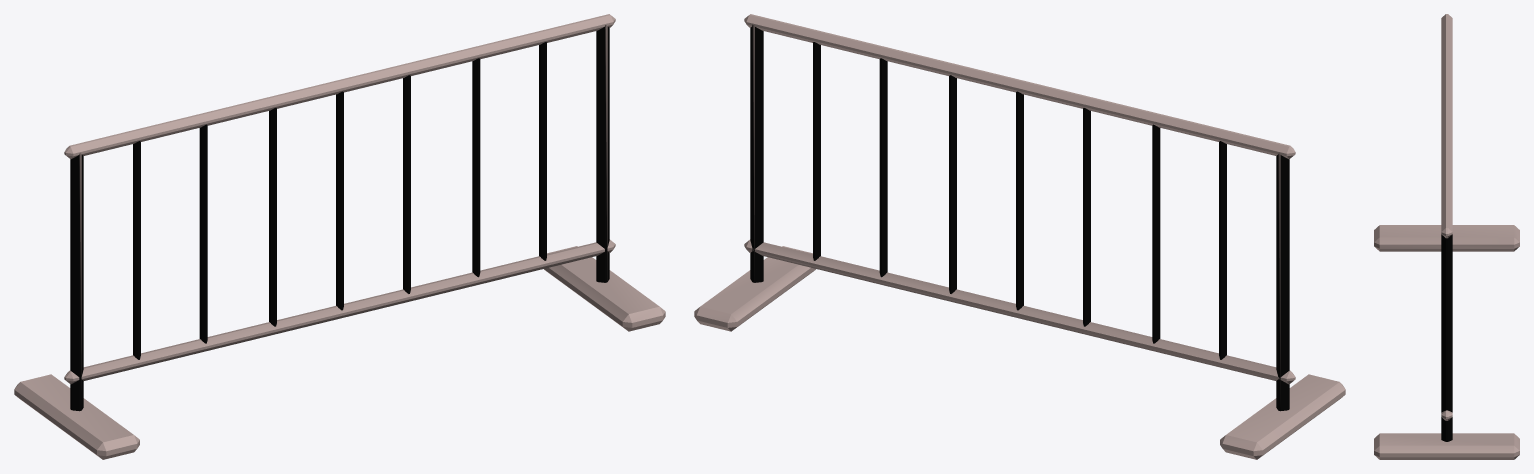
The model's file is prop.crowd-fence.glb.
The picture shows the model from 3 angles, left to right: view 1: azimuth 30°, elevation 25°; view 2: azimuth 150°, elevation 25°; view 3: azimuth 270°, elevation 25°; orthographic projection. The views are drawn at different scales.
Visible parts, largest first — view 1: body; view 2: body; view 3: body.
Part boxes in pixels (box(x1,y1,x2,y2)): body: box(14, 14, 665, 459); body: box(694, 14, 1345, 459); body: box(1374, 14, 1519, 459).
Bounding box in the file's own units: 2.38 × 1.13 × 0.65.
